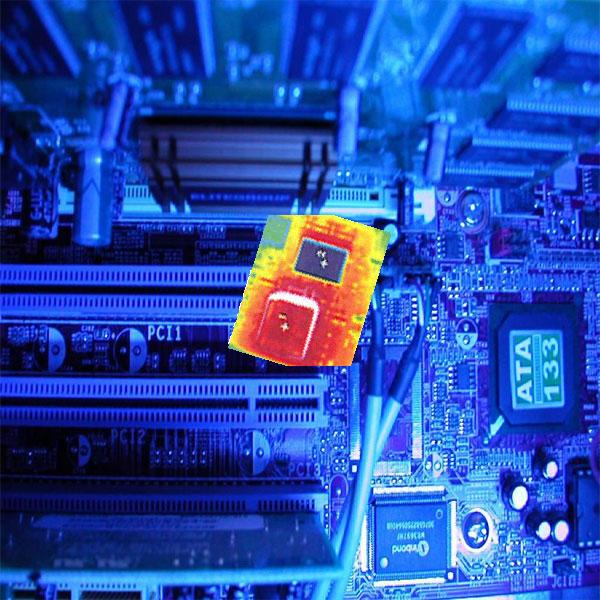componente_T: (222, 212, 397, 373)
